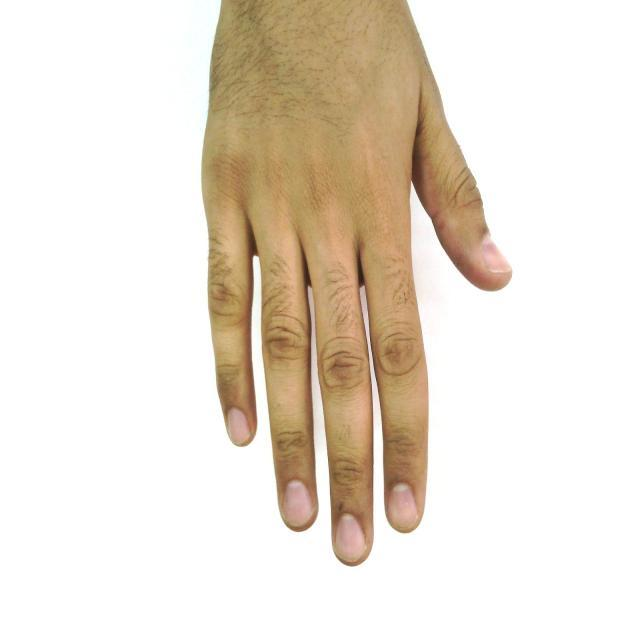Fingernail: (337, 512, 367, 563), (285, 479, 312, 527), (389, 482, 417, 528), (481, 235, 512, 272), (228, 409, 250, 445)
